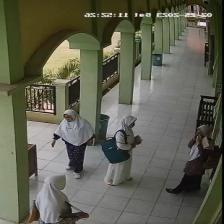HijabSyar-i: (33, 173, 73, 224), (50, 106, 95, 147), (187, 122, 214, 161), (116, 110, 135, 145)
